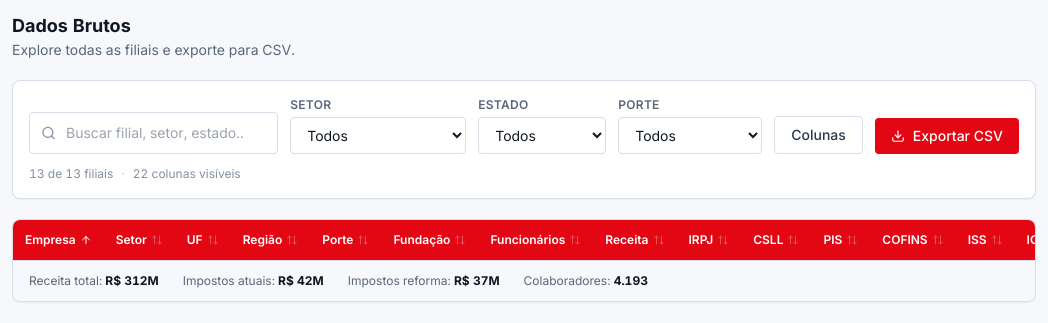
Test: RawDataPage › filters by sector
Select "Varejo" in the 1st dropdown: (378, 136) [290,117,466,154]
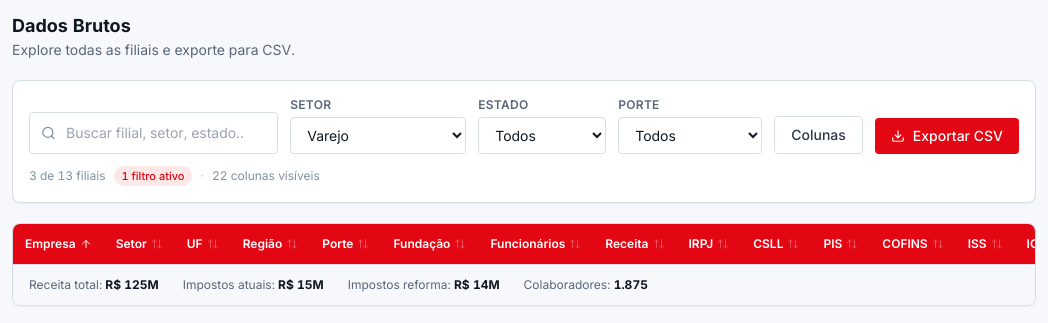
Expected: the text "1 filtro ativo" is shown, [114,166,192,186]
